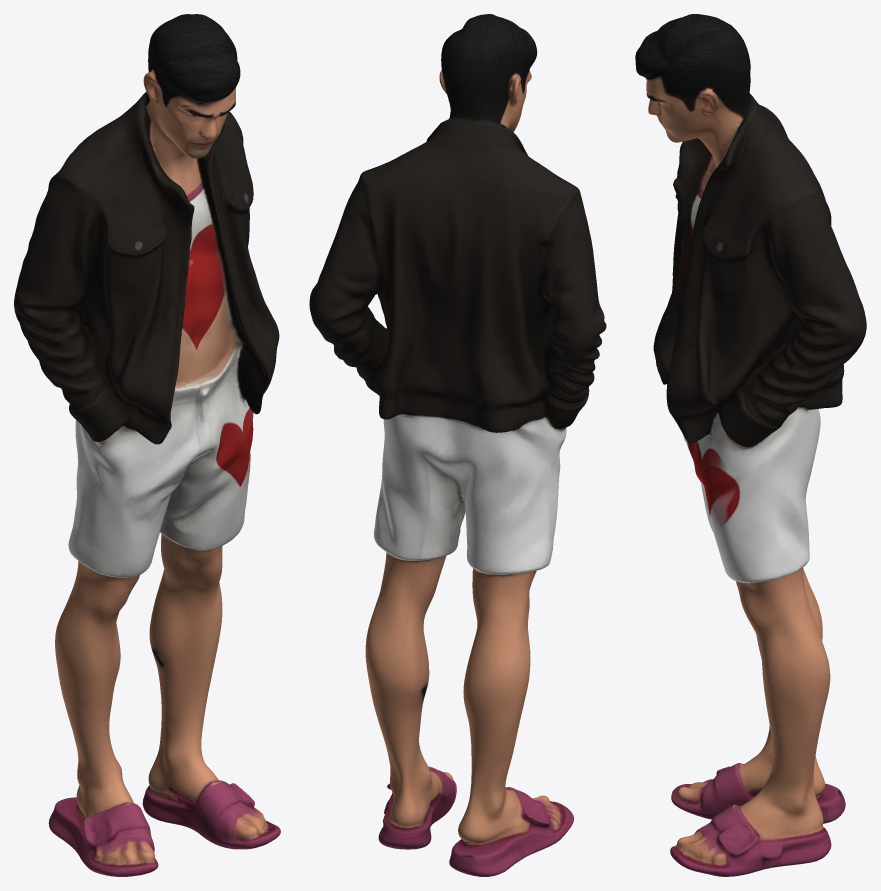
File: meshy_carl.glb
3 views of the same model, side by side, from view 1: azimuth 30°, elevation 25°; view 2: azimuth 150°, elevation 25°; view 3: azimuth 270°, elevation 25° (orthographic). The views are drawn at different scales.
Bounding box in the file's own units: 0.6138 × 1.9 × 0.4849.
Materials: 1 (1 with a texture image).
